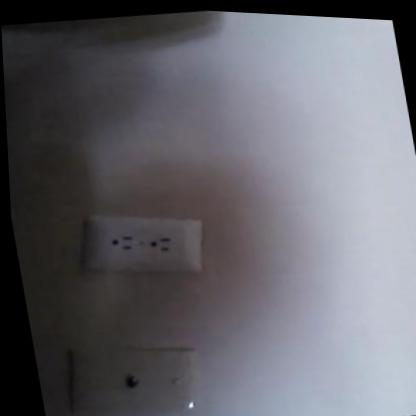OUTLET: (79, 199, 213, 286)
